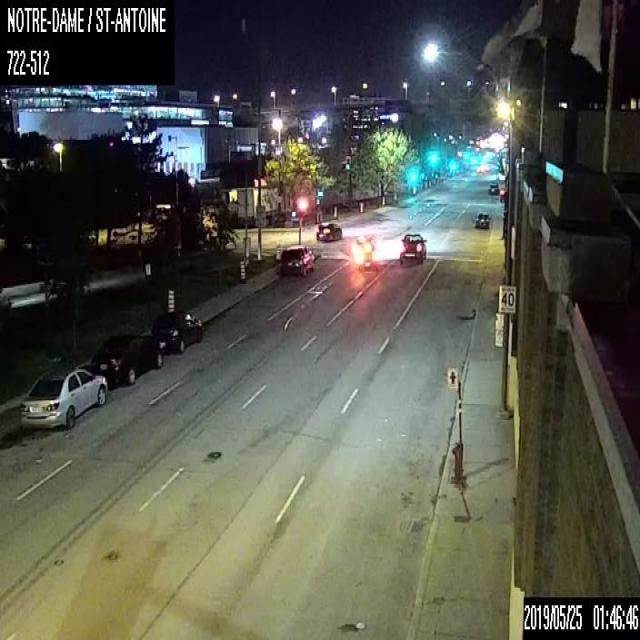construction: (166, 288, 174, 309), (238, 259, 244, 280), (275, 244, 280, 260)
vehicle: (20, 366, 106, 430), (91, 332, 162, 384), (150, 307, 203, 353), (279, 244, 314, 276), (398, 232, 427, 265), (355, 245, 378, 271), (315, 220, 342, 241), (475, 212, 489, 228), (486, 182, 498, 195)
